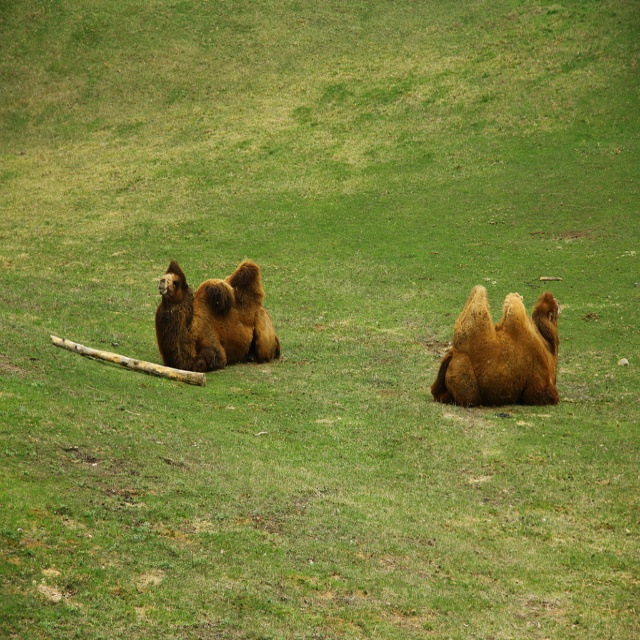Camel: (432, 284, 558, 409), (155, 261, 279, 366)
